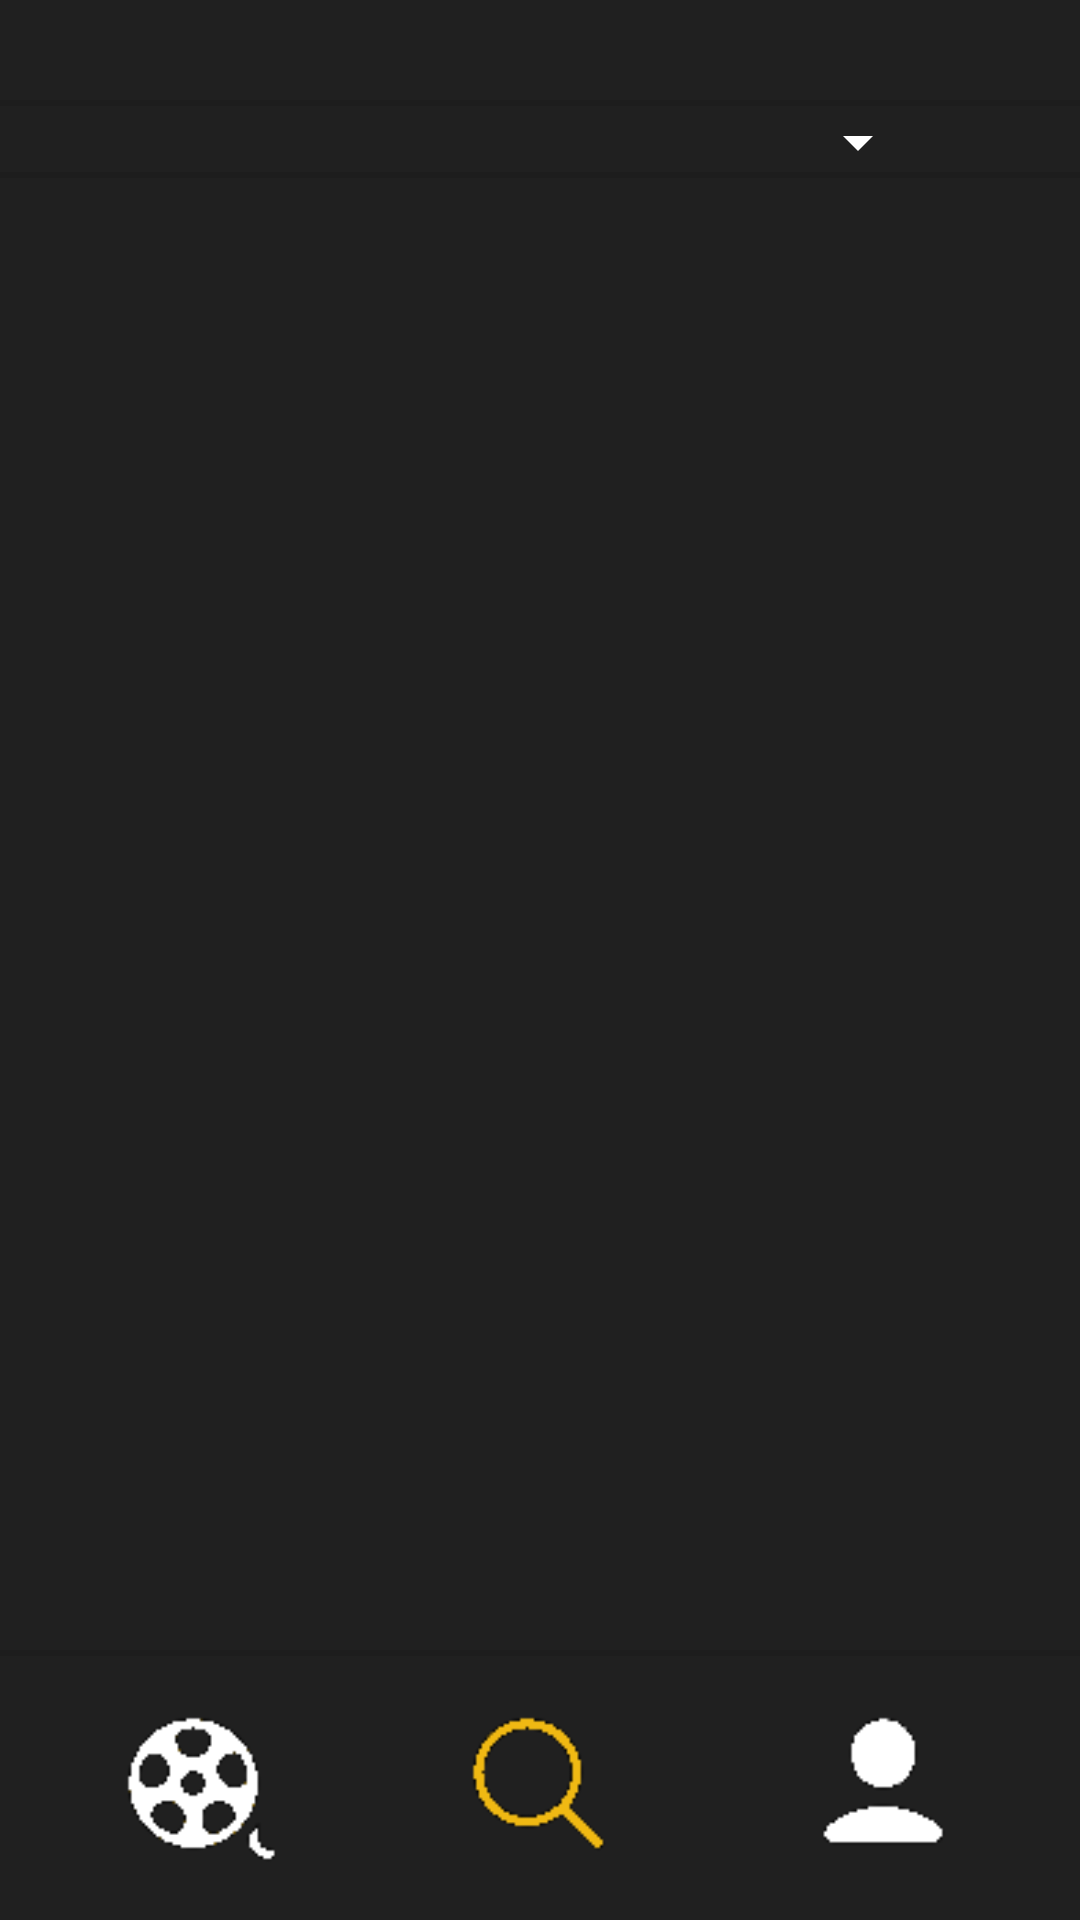

Point at icon controls on the screen. Image size 1080*1920, points as (x=x, y=y).
lupa on: (x=538, y=1783)
reel off: (x=201, y=1788)
user off: (x=883, y=1780)
